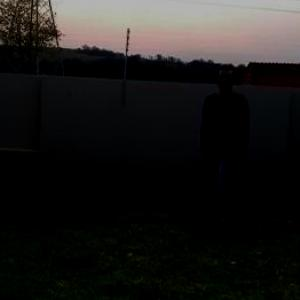follow: (197, 64, 251, 230)
